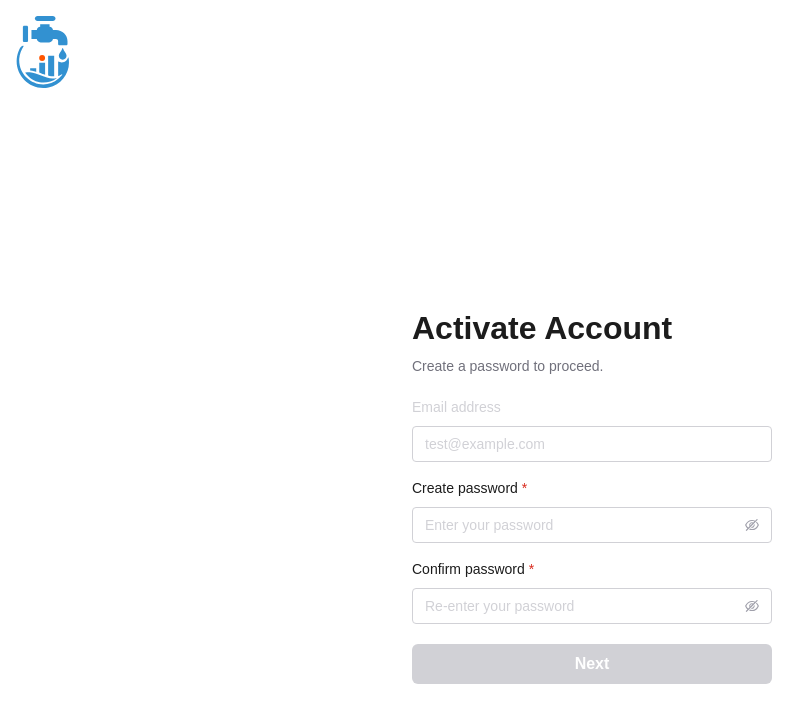
Test case: AccountActivationPage › loads invite and enables next after valid password inputs
The image size is (789, 701).
Expected: the field showing "test@example.com" is shown, [412,426,772,462]
Type "Aa1@abcd" into the password field with placeholder "Enter your password".
click(592, 525); type("Aa1@abcd")  # box [412,507,772,543]
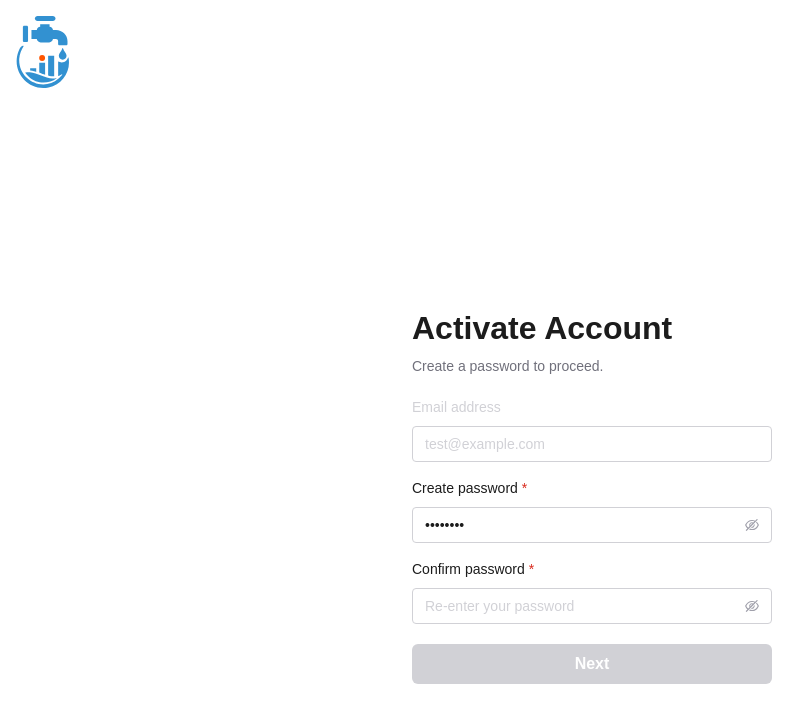
Type "Aa1@abcd" into the password field with placeholder "Re-enter your password".
click(592, 606); type("Aa1@abcd")  # box [412,588,772,624]
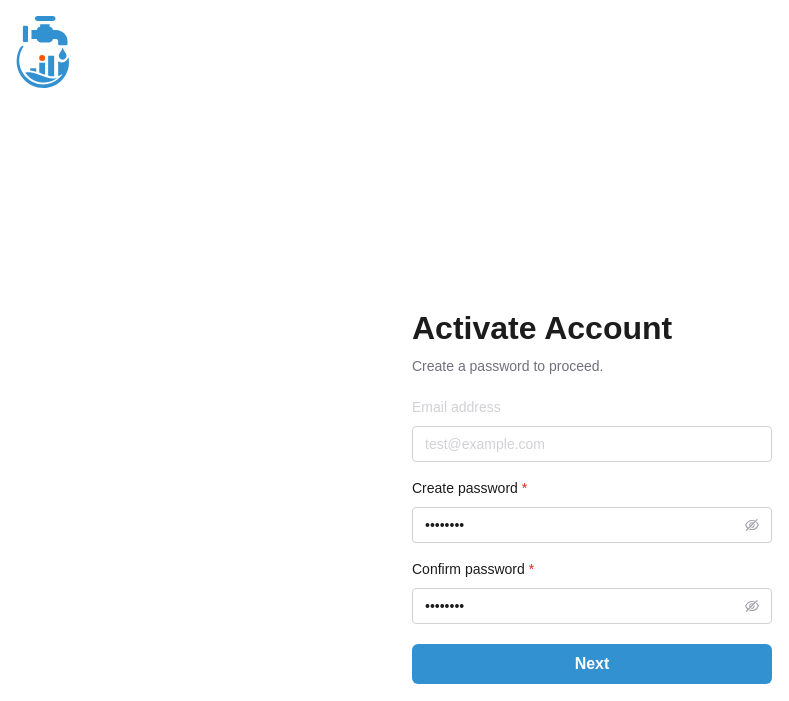
Expected: the button "Next" is enabled, [412,644,772,684]
